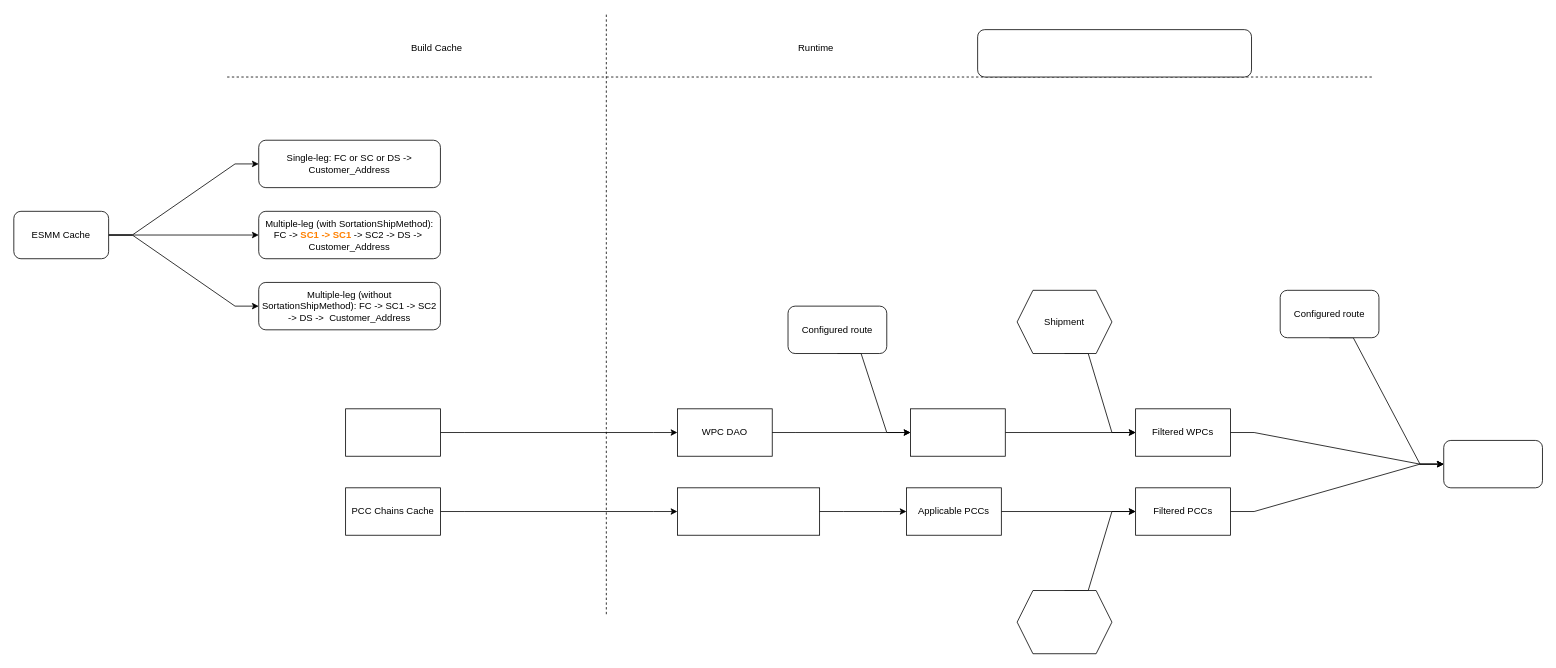
Some shapes in this 1556 by 668 pixel diagram are drawn without their labels. The shapes that lost their labels are listed below. From the top down, each one's centre as x and y in pixels, then its label:
At (1114,53): "PCC + LastNodeWPC Expansion".
At (392,432): "WPC Cache".
At (957,432): "Applicable WPCs".
At (1492,464): "Expanded ESMM Routes".
At (748,511): "Map<ESMM_node_sequence, PCC_Chains> DAO".
At (1064,622): "Other filters".
